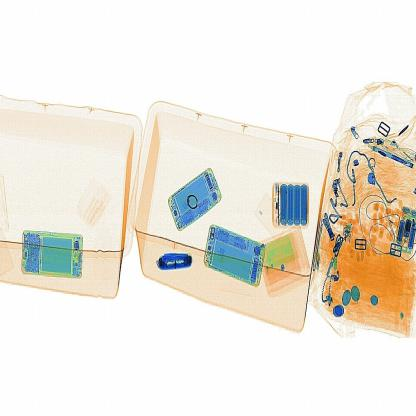scissors: (156, 250, 198, 278)
